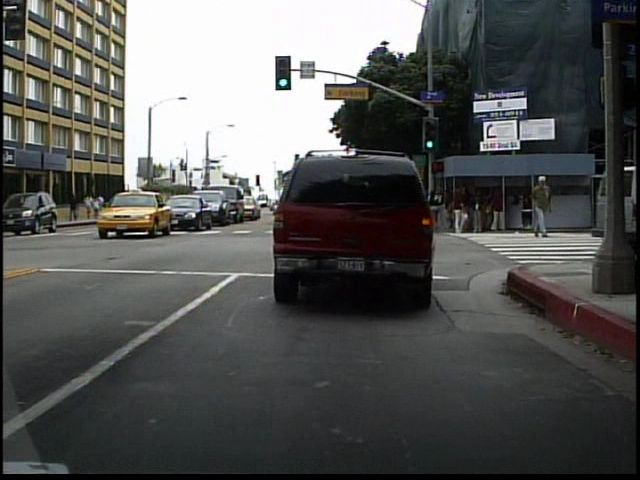person: (528, 171, 552, 240), (24, 194, 42, 230)
